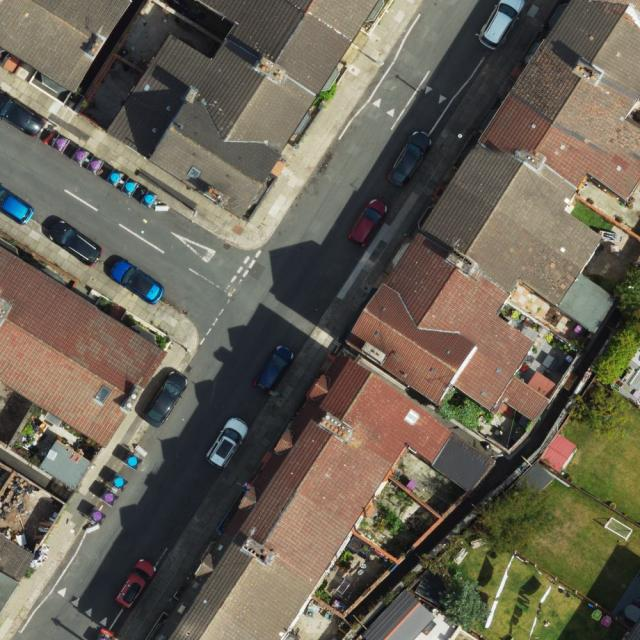roof: (349, 0, 640, 421), (172, 360, 454, 640), (107, 0, 379, 220), (0, 245, 166, 446), (1, 1, 131, 94), (364, 589, 437, 640)
skylight: (92, 384, 114, 407), (401, 407, 423, 427), (185, 166, 204, 182)
